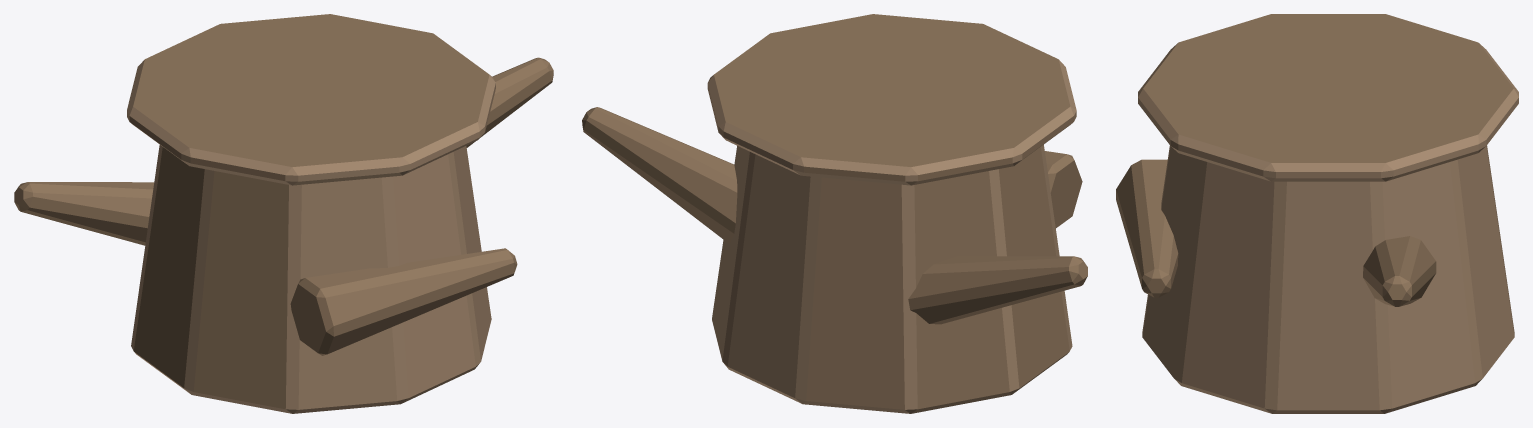
3 views of the same model, side by side, from view 1: azimuth 30°, elevation 25°; view 2: azimuth 150°, elevation 25°; view 3: azimuth 270°, elevation 25° (orthographic).
Visible parts, largest first — view 1: 树桩, 断根; view 2: 树桩, 断根; view 3: 树桩, 断根.
Part boxes in pixels (box(x1,y1,x2,y2)): 树桩: box(127, 14, 495, 413); 断根: box(14, 57, 553, 355); 树桩: box(707, 14, 1076, 413); 断根: box(582, 107, 1087, 324); 树桩: box(1138, 14, 1518, 413); 断根: box(1116, 159, 1436, 306).
Bounding box in the file's own units: 177 × 81 × 117.
